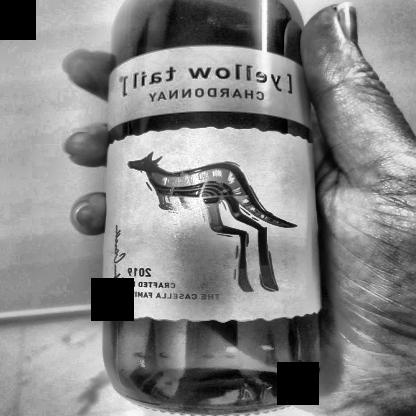yellowtail: (102, 50, 304, 318)
